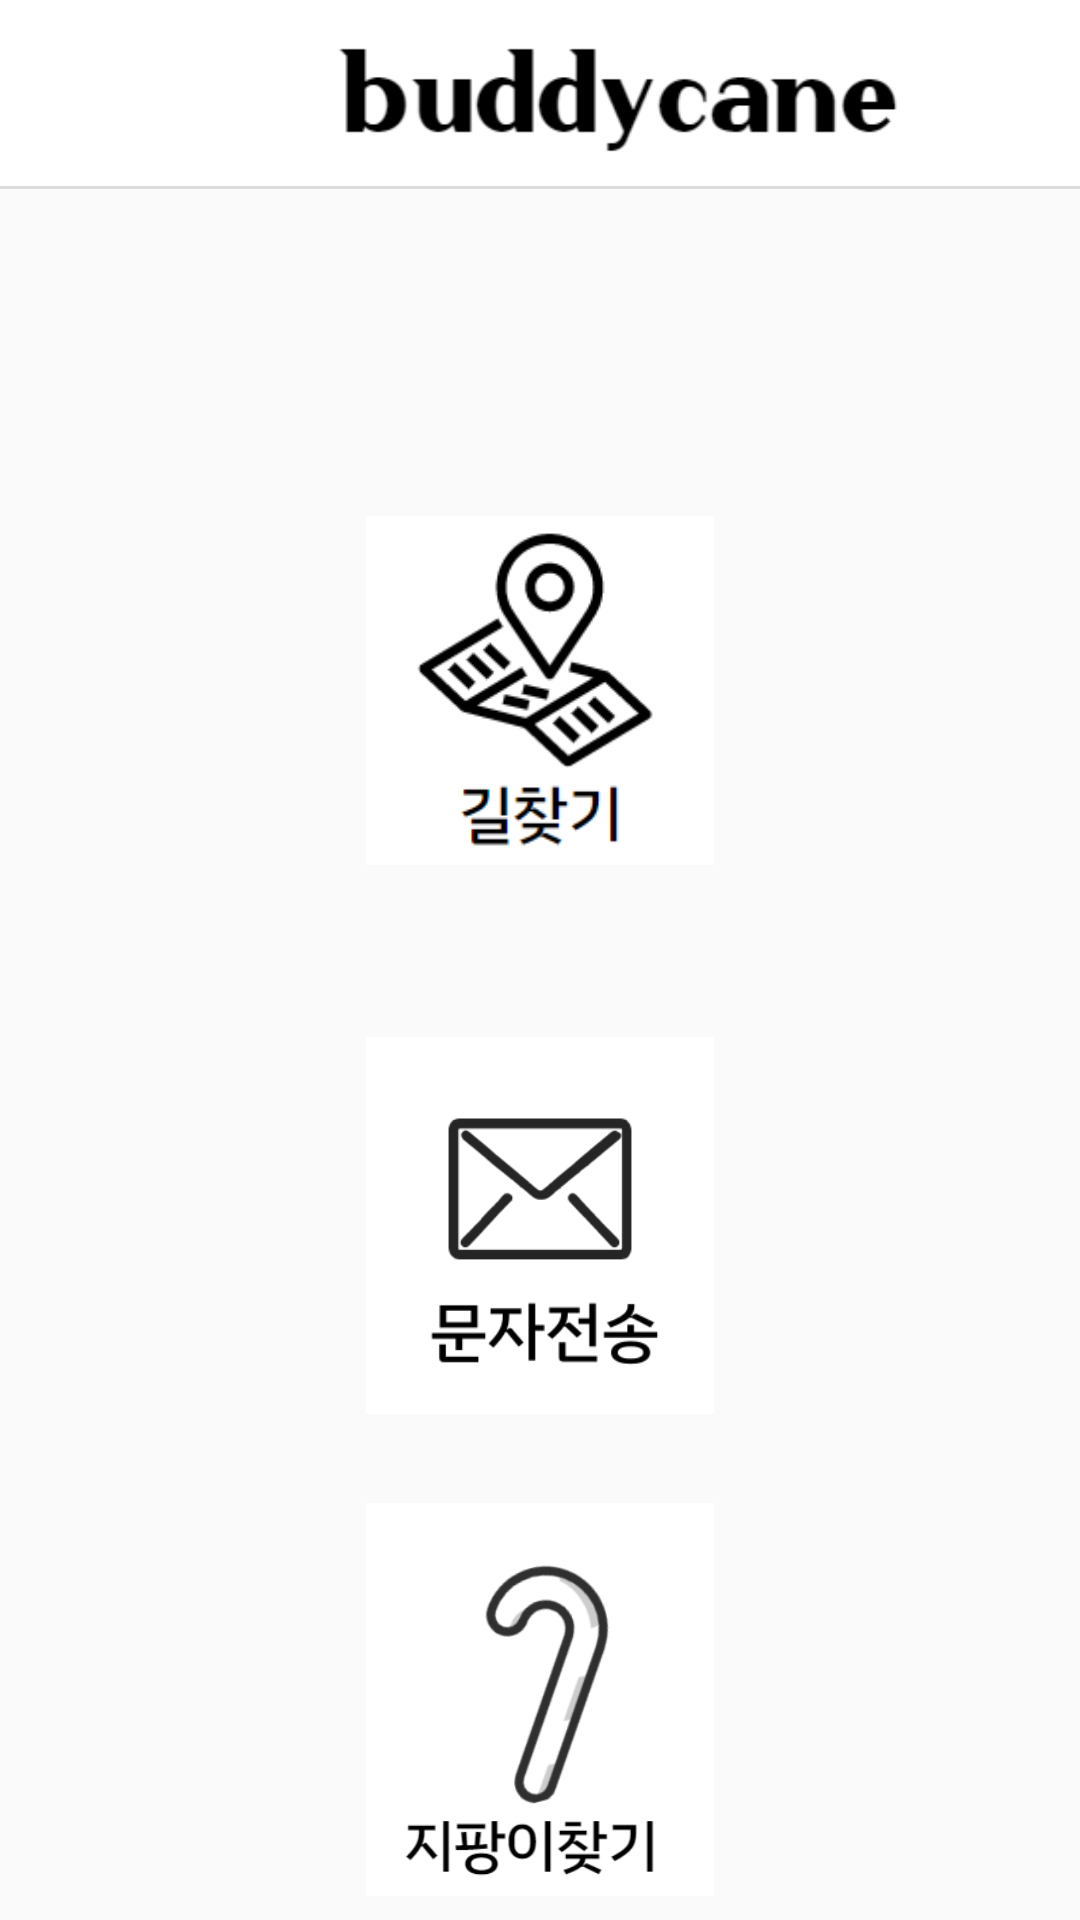

Point at icon controls on the screen. Image size 1080px x 1920px, points as [x,y].
mapicon: [535,689]
